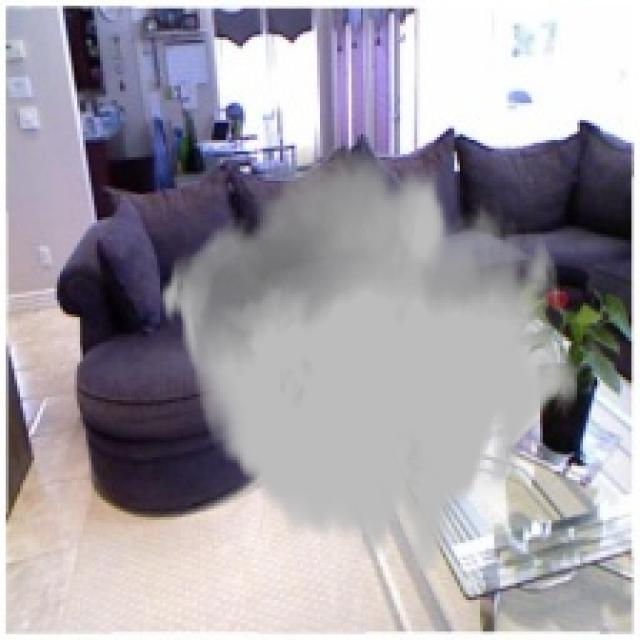smoke: (160, 146, 580, 571)
